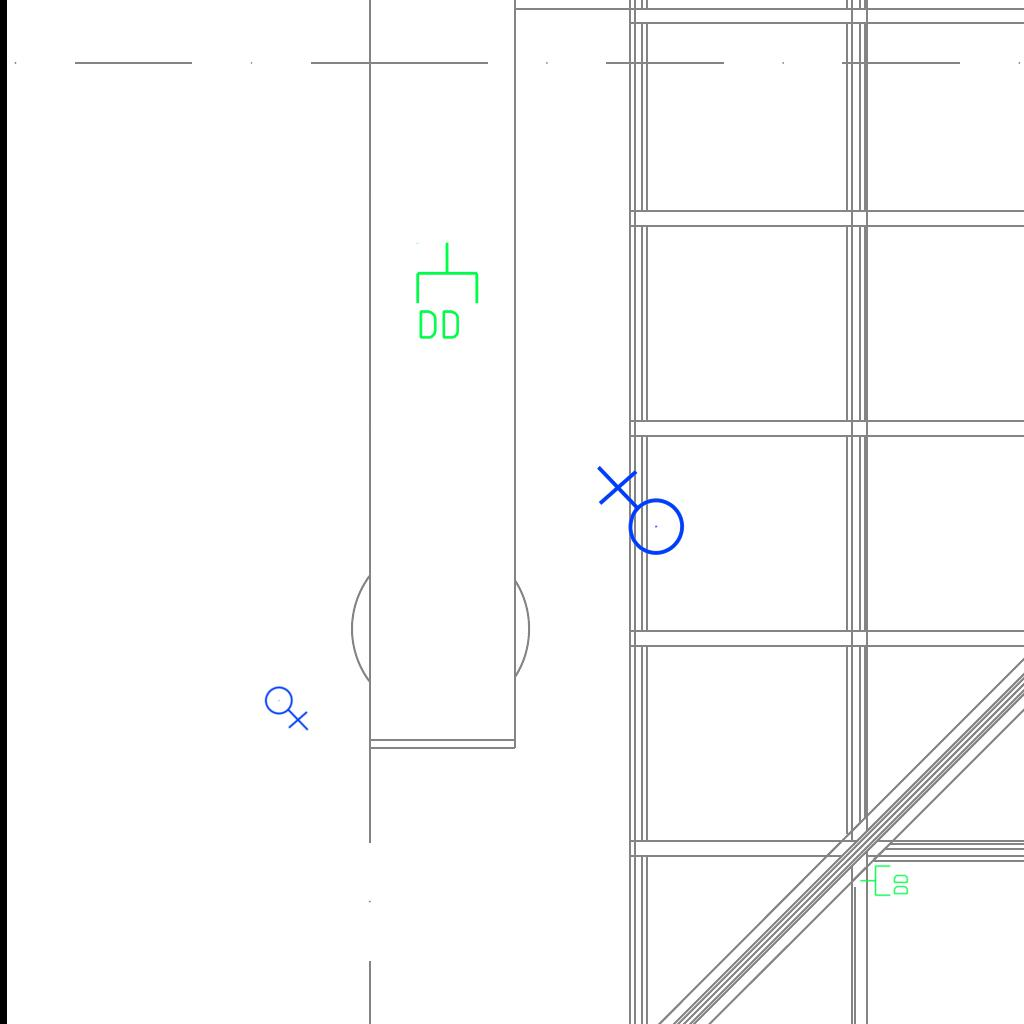Datenanschluss_zweifach: (412, 240, 481, 343), (859, 864, 910, 898)
Elektroanschluss_allgemein_230V_Geraeteanschlussdose_230V: (592, 465, 686, 564), (264, 682, 311, 731)
